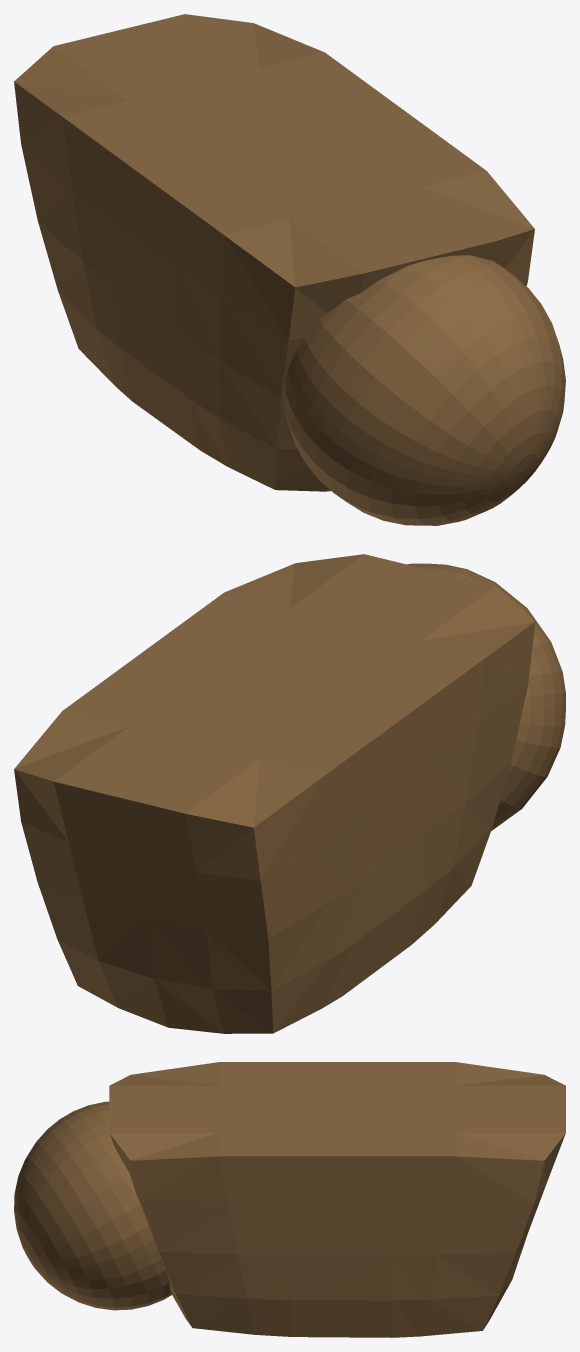
The model's file is RightFingerJoint12y_joint_visu.dae.
3 renders of one model, top to bottom at view 1: azimuth 30°, elevation 25°; view 2: azimuth 150°, elevation 25°; view 3: azimuth 270°, elevation 25°, orthographic. The views are drawn at different scales.
Parts seen in each view (by area): view 1: node; view 2: node; view 3: node.
Part boxes in pixels (left/top/right/bottom): node: left=14, top=14, right=565, bottom=525; node: left=14, top=554, right=565, bottom=1033; node: left=14, top=1062, right=565, bottom=1337.
Bounding box in the file's own units: 0.00864 × 0.00866 × 0.0214.
